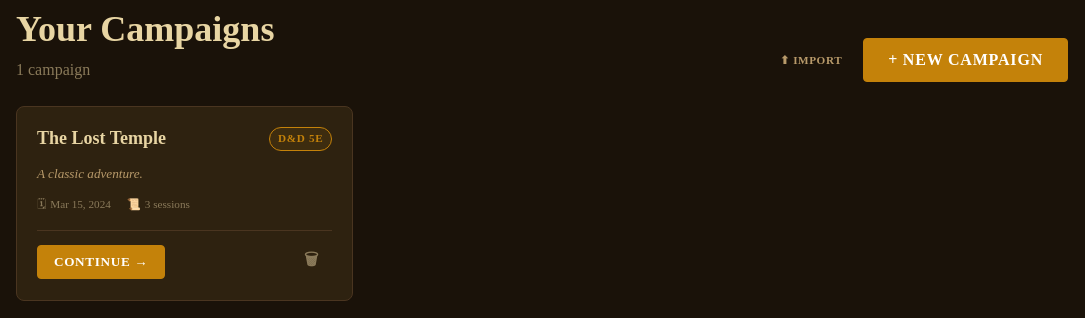
Scenario: CampaignList › confirm-delete flow › dismisses the confirm prompt when "No" is clicked
Click the button titled "delete campaign": click(312, 262) [291,243,332,280]
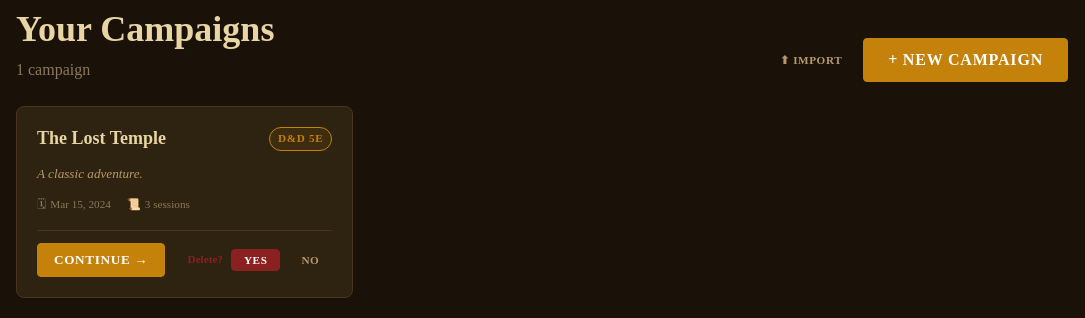
Click the button "No": click(310, 260) [288,249,332,271]
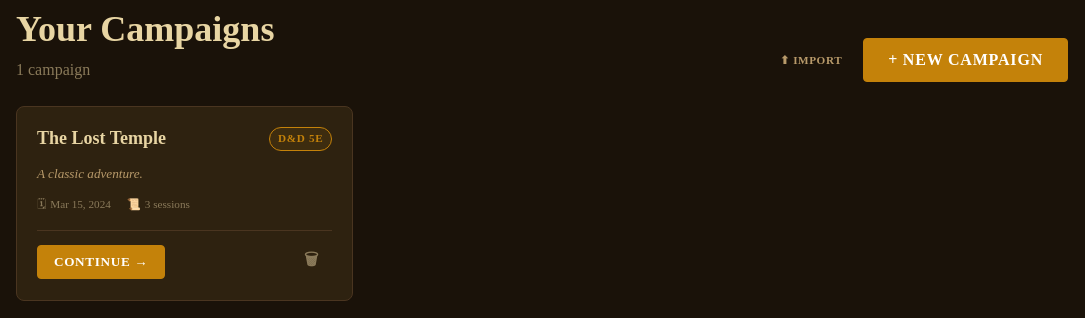
Expected: the text "Delete?" is gone
